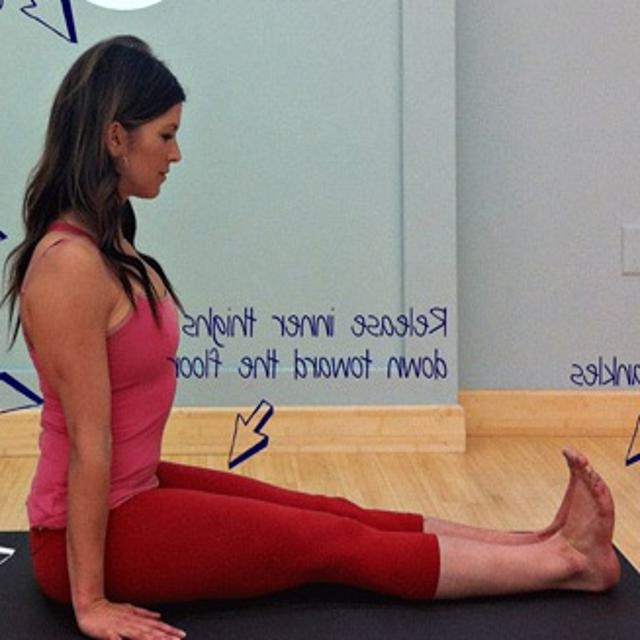Staff_Pose: (18, 36, 618, 640)
